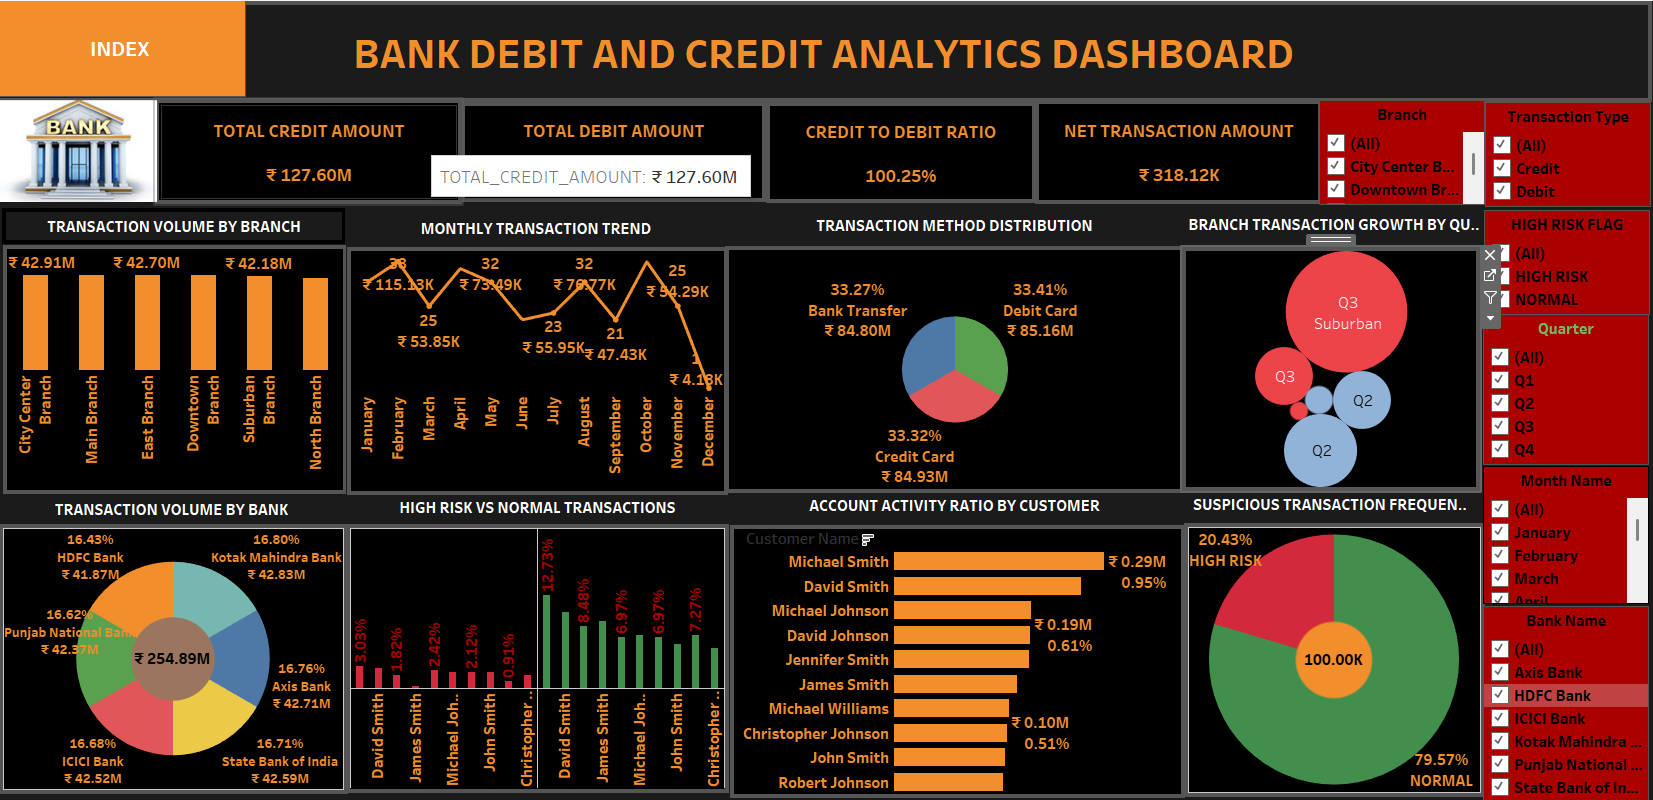

This screenshot's page, from the dashboard's own definition file:
{"tool":"tableau","page":{"name":"INDEX","canvas":[1000,1000],"units":"permille","ordinal":1},"visuals":[{"type":"text","box":[0,2.5,1000,93.6]},{"type":"text","box":[379.6,88.6,620.4,302.1]},{"type":"image","param":"E:/BANKING PROJECT PROGRESS/BANKING PROJECT PROGRESS/TABLEAU/LOAN_ANALYSIS_VISUA","box":[149.4,91.1,126,249.7]},{"type":"image","param":"E:/BANKING PROJECT PROGRESS/BANKING PROJECT PROGRESS/TABLEAU/LOAN_ANALYSIS_VISUA","box":[266.6,92.4,114.2,247.2]},{"type":"image","param":"E:/BANKING PROJECT PROGRESS/BANKING PROJECT PROGRESS/TABLEAU/LOAN_ANALYSIS_VISUA","box":[0,93.6,162.9,247.2]},{"type":"dashboard-object","box":[381.4,389.5,220.3,73.7]},{"type":"dashboard-object","box":[612.2,390.8,220.3,73.7]},{"type":"dashboard-object","box":[847.9,395.8,149.7,193.5]},{"type":"dashboard-object","box":[381.4,461.9,220.3,73.7]},{"type":"dashboard-object","box":[612.8,464.4,220.3,73.7]},{"type":"dashboard-object","box":[380.8,535.6,220.3,73.7]},{"type":"dashboard-object","box":[612.8,538.1,220.3,73.7]},{"type":"dashboard-object","box":[847.9,593,149.1,219.7]},{"type":"dashboard-object","box":[380.2,609.2,220.3,73.7]},{"type":"dashboard-object","box":[613.9,611.7,220.3,73.7]},{"type":"dashboard-object","box":[380.8,682.9,220.3,73.7]},{"type":"dashboard-object","box":[613.9,685.4,220.3,73.7]},{"type":"dashboard-object","box":[380.8,755.3,220.3,73.7]},{"type":"dashboard-object","box":[613.9,757.8,220.3,73.7]},{"type":"dashboard-object","box":[847.3,812.7,152.7,184.8]},{"type":"dashboard-object","box":[380.8,830.2,220.3,73.7]},{"type":"dashboard-object","box":[614.5,830.2,220.3,73.7]},{"type":"dashboard-object","box":[381.4,903.9,220.3,96.1]},{"type":"dashboard-object","box":[614.5,903.9,220.3,94.9]}]}

Visuals, with their boxes on the dashboard's canvas, which has no fixed pixel size, in thousandths of its width and height (x1, y1, x2, y2). These are canvas units, not pixel positions in the 1653x800 screenshot, which may show the page scaled, cropped or inside an application window:
text: crop(0, 2, 1000, 96)
text: crop(380, 89, 1000, 391)
image: crop(149, 91, 275, 341)
image: crop(267, 92, 381, 340)
image: crop(0, 94, 163, 341)
dashboard-object: crop(381, 390, 602, 463)
dashboard-object: crop(612, 391, 832, 464)
dashboard-object: crop(848, 396, 998, 589)
dashboard-object: crop(381, 462, 602, 536)
dashboard-object: crop(613, 464, 833, 538)
dashboard-object: crop(381, 536, 601, 609)
dashboard-object: crop(613, 538, 833, 612)
dashboard-object: crop(848, 593, 997, 813)
dashboard-object: crop(380, 609, 600, 683)
dashboard-object: crop(614, 612, 834, 685)
dashboard-object: crop(381, 683, 601, 757)
dashboard-object: crop(614, 685, 834, 759)
dashboard-object: crop(381, 755, 601, 829)
dashboard-object: crop(614, 758, 834, 832)
dashboard-object: crop(847, 813, 1000, 998)
dashboard-object: crop(381, 830, 601, 904)
dashboard-object: crop(614, 830, 835, 904)
dashboard-object: crop(381, 904, 602, 1000)
dashboard-object: crop(614, 904, 835, 999)
